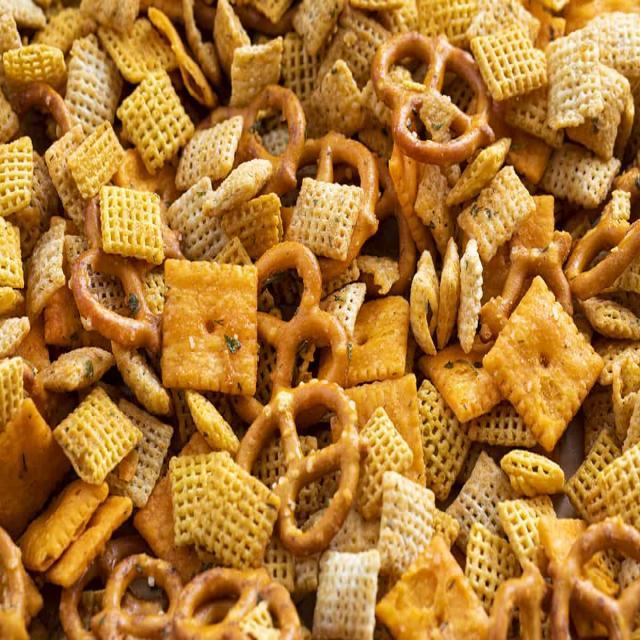Salatini: (12, 14, 624, 634)
